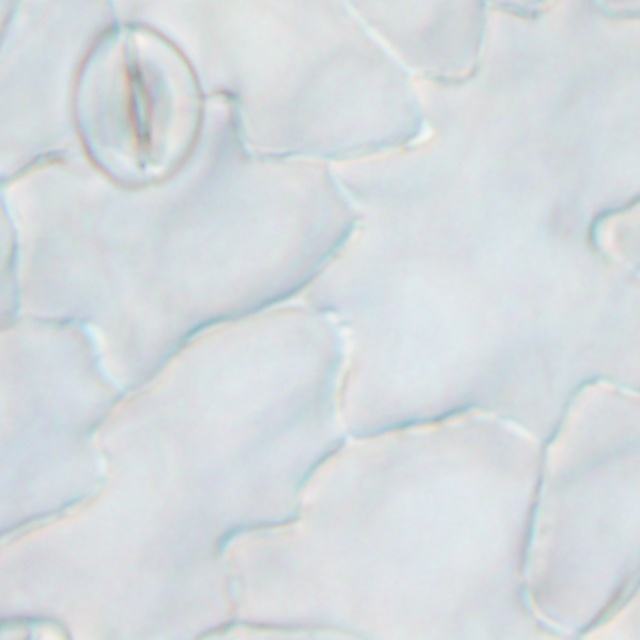center: (121, 63, 155, 146), (297, 632, 339, 636), (21, 627, 53, 631), (603, 6, 626, 10)
stomata-huw1: (74, 26, 202, 186), (1, 619, 73, 639), (271, 629, 365, 639), (590, 0, 639, 15)
